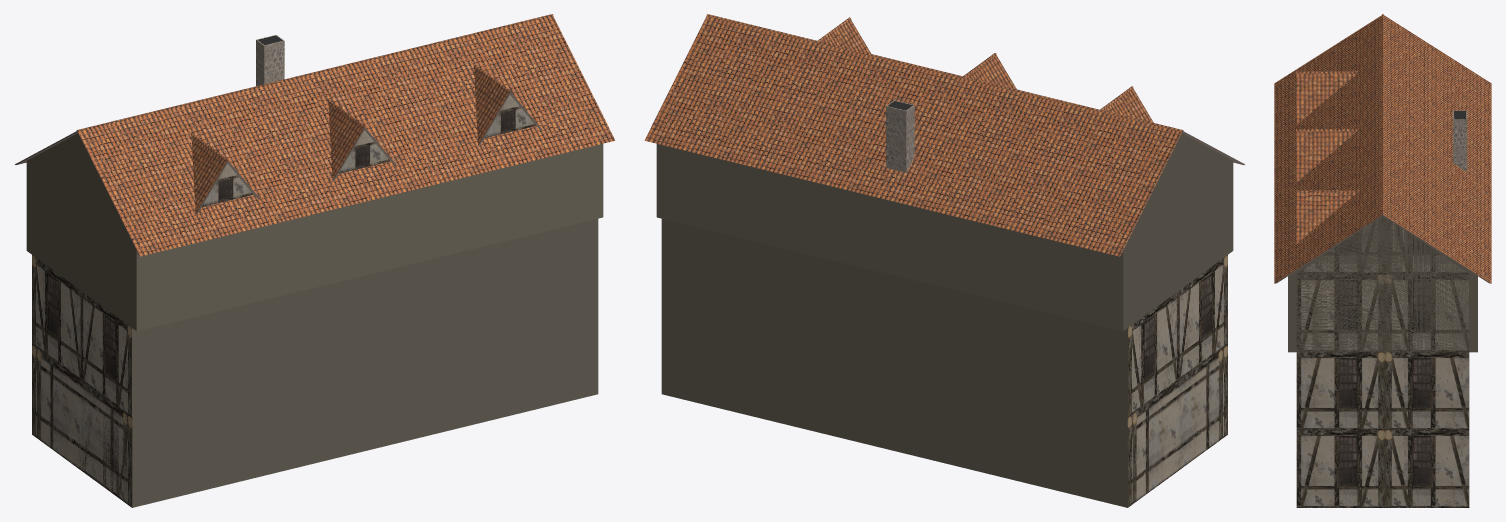
Rendered from ShiganHouse1FBX.fbx.
3 views of the same model, side by side, from view 1: azimuth 30°, elevation 25°; view 2: azimuth 150°, elevation 25°; view 3: azimuth 270°, elevation 25° (orthographic). The views are drawn at different scales.
Parts seen in each view (by area): view 1: ShiganshinaHouse1_LOD0_1, ShiganshinaHouse1_LOD2_1, ShiganshinaHouse1_LOD1_1; view 2: ShiganshinaHouse1_LOD0_1, ShiganshinaHouse1_LOD2_1, ShiganshinaHouse1_LOD1_1; view 3: ShiganshinaHouse1_LOD0_1, ShiganshinaHouse1_LOD2_1, ShiganshinaHouse1_LOD1_1.
Boxes of the visible parts, <box> form: ShiganshinaHouse1_LOD0_1: <box>15,14,615,501</box>; ShiganshinaHouse1_LOD2_1: <box>32,219,598,507</box>; ShiganshinaHouse1_LOD1_1: <box>202,75,525,206</box>; ShiganshinaHouse1_LOD0_1: <box>644,14,1244,503</box>; ShiganshinaHouse1_LOD2_1: <box>661,219,1227,507</box>; ShiganshinaHouse1_LOD1_1: <box>886,110,906,172</box>; ShiganshinaHouse1_LOD0_1: <box>1274,14,1491,352</box>; ShiganshinaHouse1_LOD2_1: <box>1296,216,1469,507</box>; ShiganshinaHouse1_LOD1_1: <box>1453,120,1467,171</box>.
Size of the model in its own units: 22.07 by 15.18 by 10.11.
